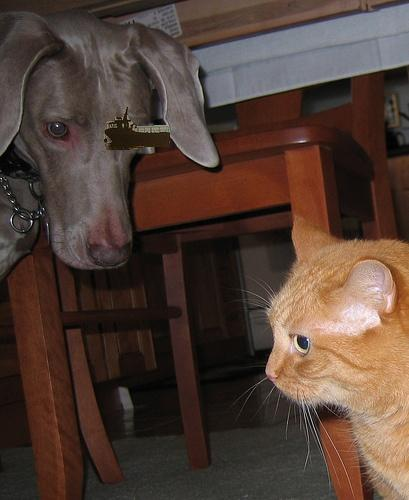tampered: (105, 108, 170, 150)
